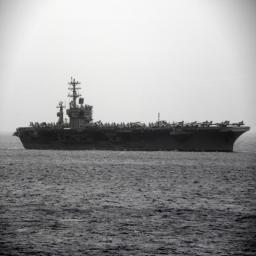Portanaves: (13, 72, 254, 153)
